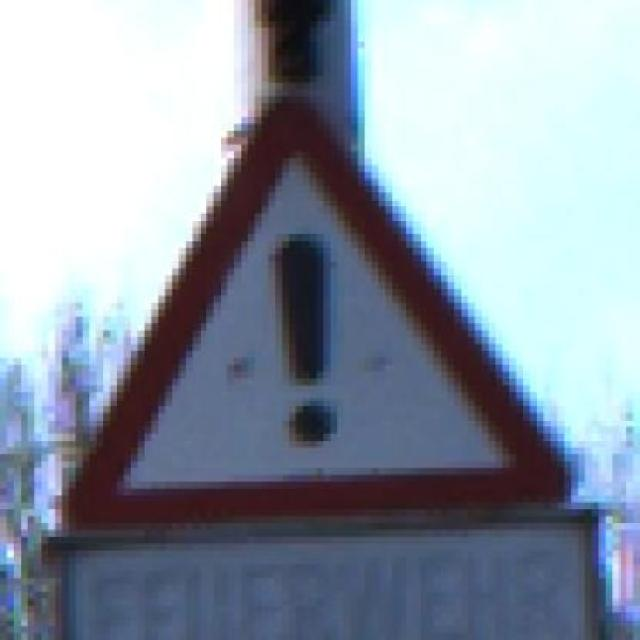Attention Please-: (69, 82, 586, 530)
